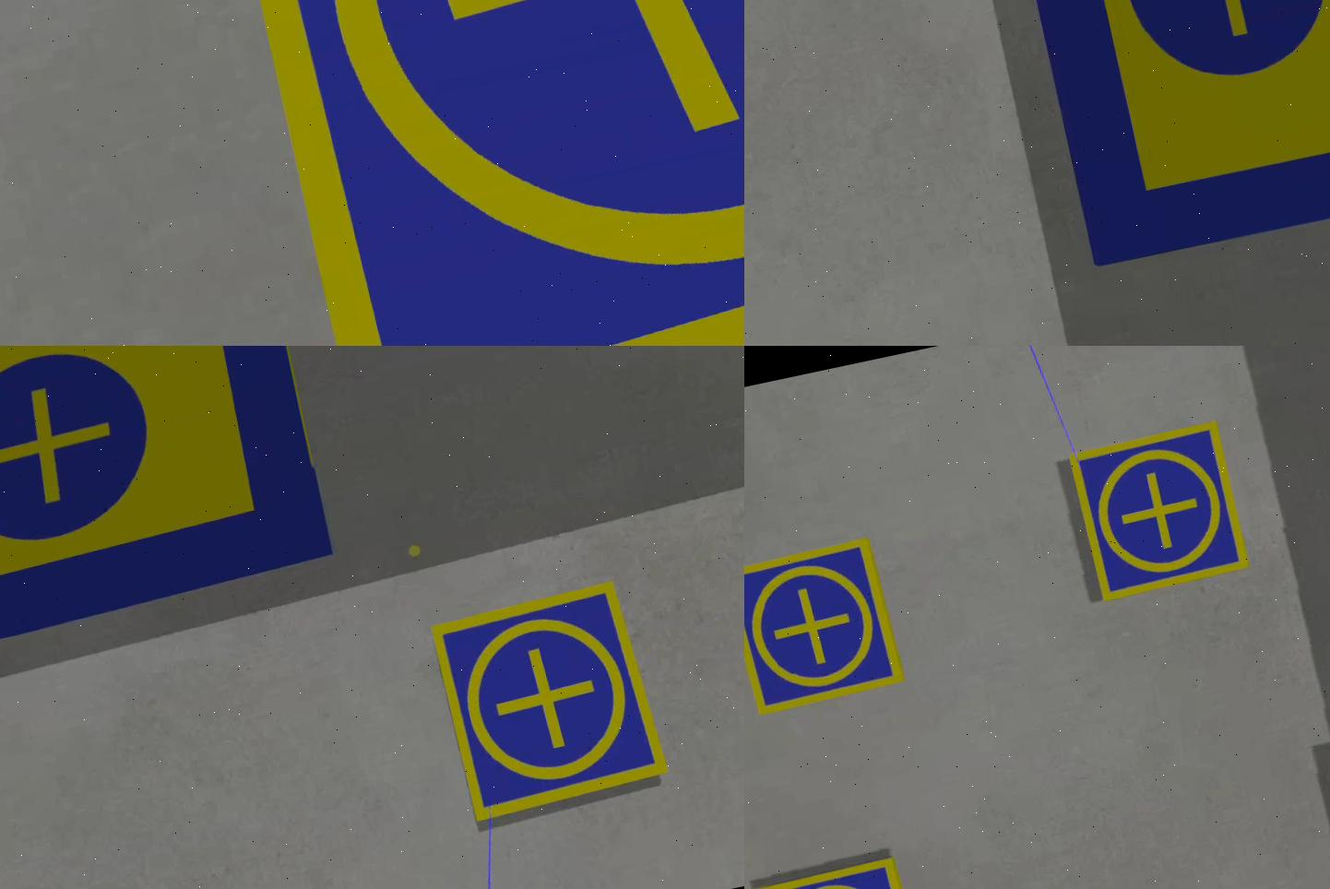large_base: (1, 347, 338, 669), (987, 1, 1330, 263)
small_base: (201, 1, 745, 347), (432, 578, 670, 825), (1066, 420, 1255, 603), (745, 532, 909, 718), (747, 853, 927, 889)
